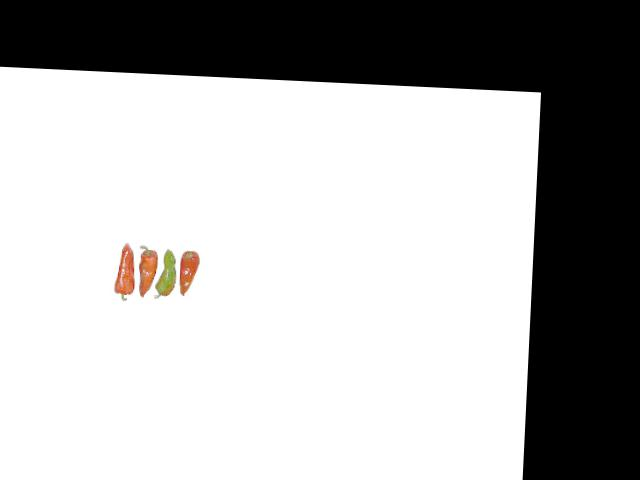bell_pepper: (177, 248, 205, 301)
